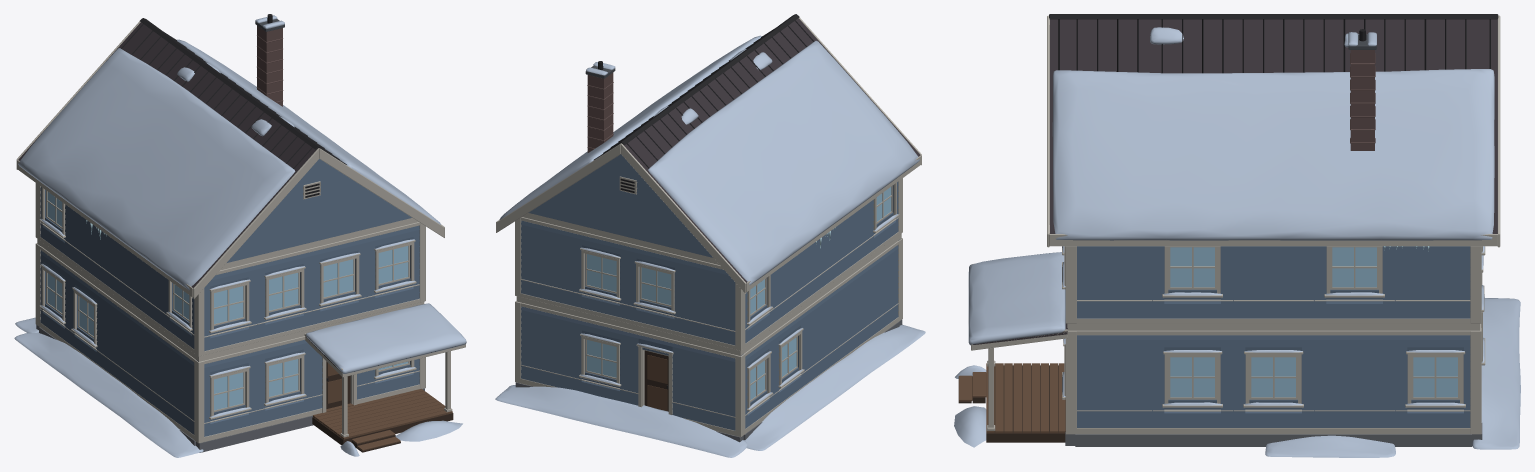
File: house_two_story_B.glb
3 renders of one model, left to right at view 1: azimuth 30°, elevation 25°; view 2: azimuth 150°, elevation 25°; view 3: azimuth 270°, elevation 25°, orthographic. The views are drawn at different scales.
Visible parts, largest first — view 1: Roof, Walls1_S, Floor0, Walls0_W, Walls0_S, Walls1_W, Floor1, Window_11, Window_12, Window_0, Window_1, Window_9 (+6 smaller); view 2: Roof, Walls1_N, Walls0_N, Floor0, Walls0_W, Walls1_W, Floor1, Door_1, Window_13, Window_3, Window_14, Walls1_N_Stub (+1 smaller); view 3: Roof, Walls0_E, Walls1_E, Floor0, Floor1, Window_6, Window_16, Window_4, Window_5, Window_15, Walls0_N, Walls0_S (+4 smaller).
Boxes of the visible parts, x1,y1,x2,y2 form: Roof: (16, 14, 466, 377); Walls1_S: (194, 222, 425, 356); Floor0: (14, 317, 462, 457); Walls0_W: (39, 246, 195, 439); Walls0_S: (194, 336, 425, 443); Walls1_W: (39, 187, 194, 352); Floor1: (37, 239, 424, 361); Window_11: (323, 259, 353, 297); Window_12: (378, 246, 408, 283); Window_0: (214, 372, 243, 410); Window_1: (269, 359, 298, 396); Window_9: (214, 286, 243, 324); Roof: (496, 14, 921, 293); Walls1_N: (515, 217, 745, 350); Walls0_N: (515, 301, 745, 437); Floor0: (495, 319, 925, 457); Walls0_W: (744, 241, 898, 433); Walls1_W: (745, 182, 899, 347); Floor1: (516, 233, 901, 355); Door_1: (644, 350, 668, 411); Window_13: (641, 267, 671, 305); Window_3: (587, 340, 616, 377); Window_14: (587, 254, 616, 291); Walls1_N_Stub: (515, 279, 745, 350); Roof: (968, 14, 1500, 350); Walls0_E: (1076, 330, 1471, 434); Walls1_E: (1076, 246, 1470, 323); Floor0: (954, 294, 1520, 457); Floor1: (1067, 323, 1479, 330); Window_6: (1413, 357, 1457, 397); Window_16: (1332, 247, 1376, 287); Window_4: (1170, 357, 1214, 397); Window_5: (1251, 357, 1295, 397); Window_15: (1170, 247, 1214, 287); Walls0_N: (1470, 255, 1485, 434); Walls0_S: (1062, 330, 1076, 434).
Size of what is drawn, in the model's own units: 9.88 by 10.68 by 14.
